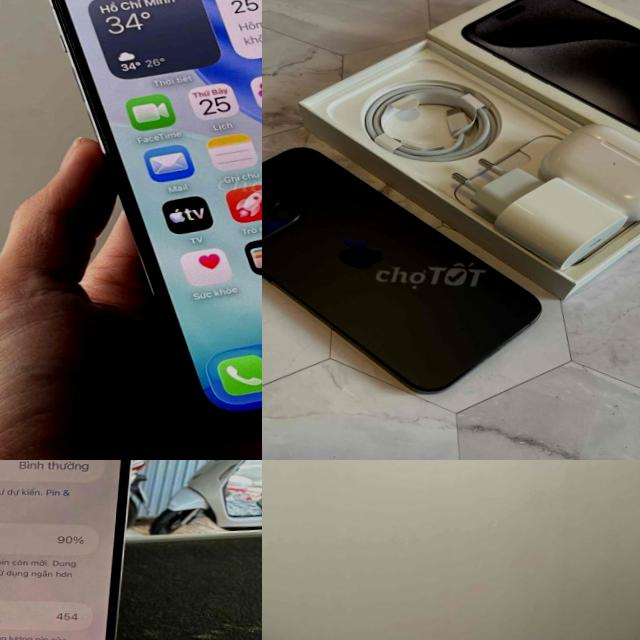gen_12_13: (27, 0, 262, 434)
gen_15: (262, 134, 557, 409), (0, 460, 154, 640)
